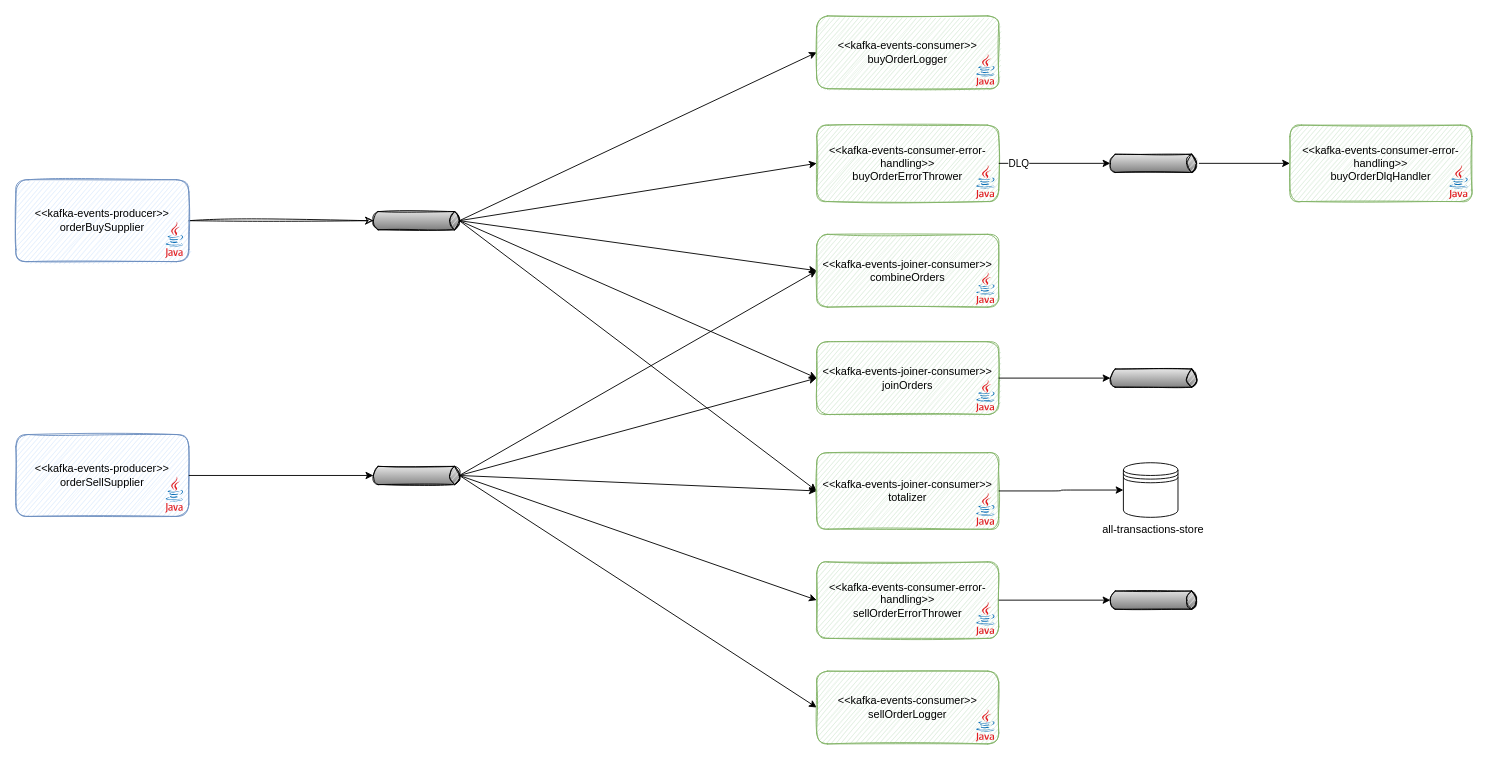
The diagram is 1488 pixels wide and 760 high, and some of its shapes have lost their labels. The centre of each missing label's shape, as x and y in pixels:
"dlq.orders-processing" belongs at [1153,162].
"dlq.sell-orders-streaming" belongs at [1153,599].
"orders.buy" belongs at [416,220].
"orders.call" belongs at [416,475].
"transactions" belongs at [1153,377].
